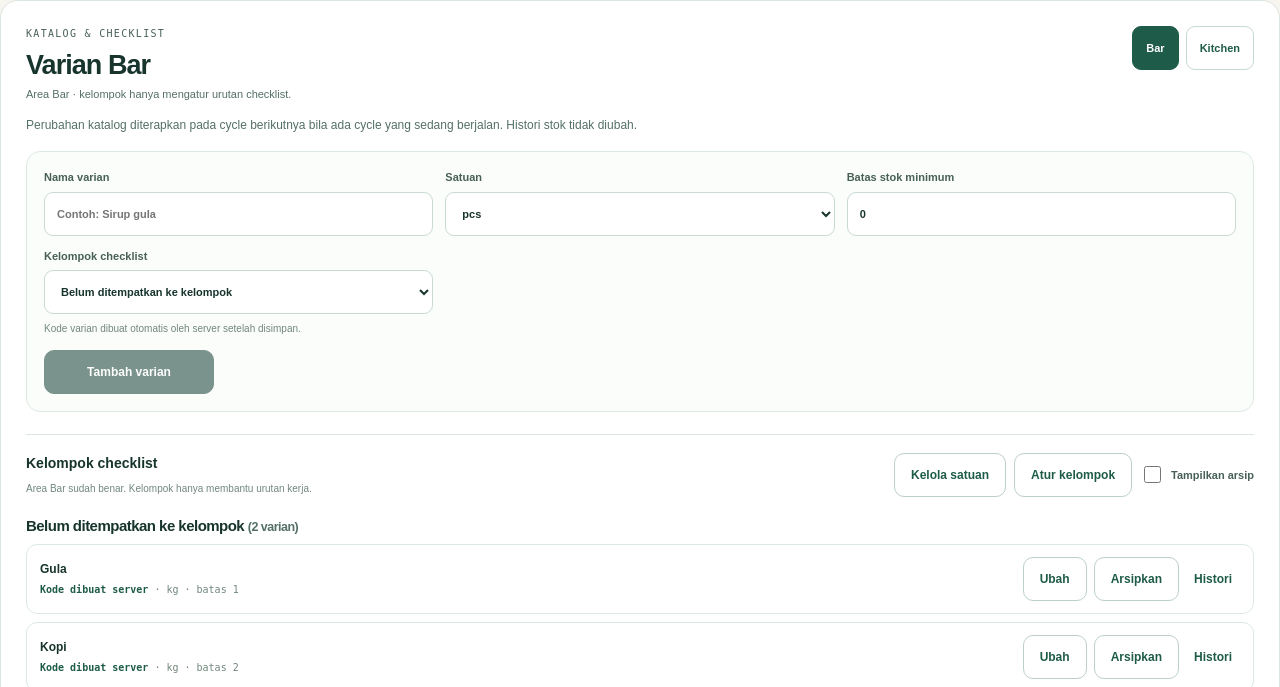
it: CatalogManager › edits catalog metadata with a next-cycle notice
The width and height of the screenshot is (1280, 687).
Click the button "Ubah" in the row of "Gula" at (1055, 579), box [1023,557,1087,601]
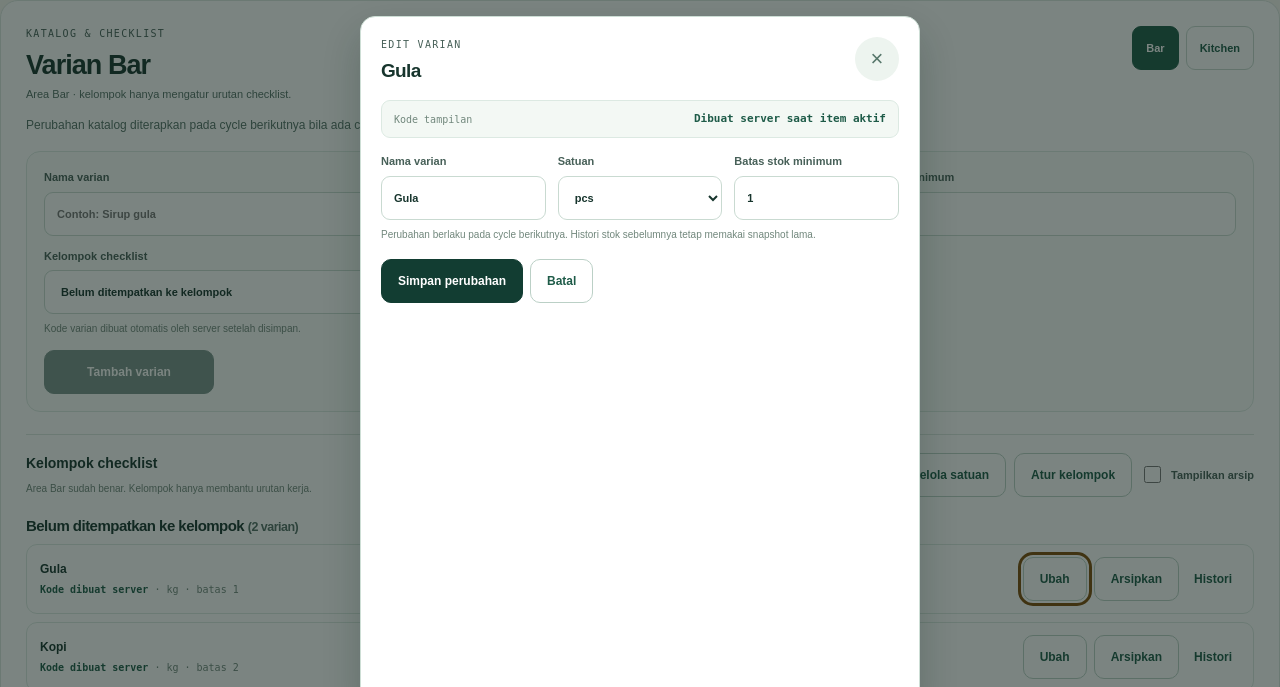
Replace the text in the field showing "Gula" below "Dibuat server saat item aktif" with "Gula aren" at (463, 198), box [381,176,546,220]
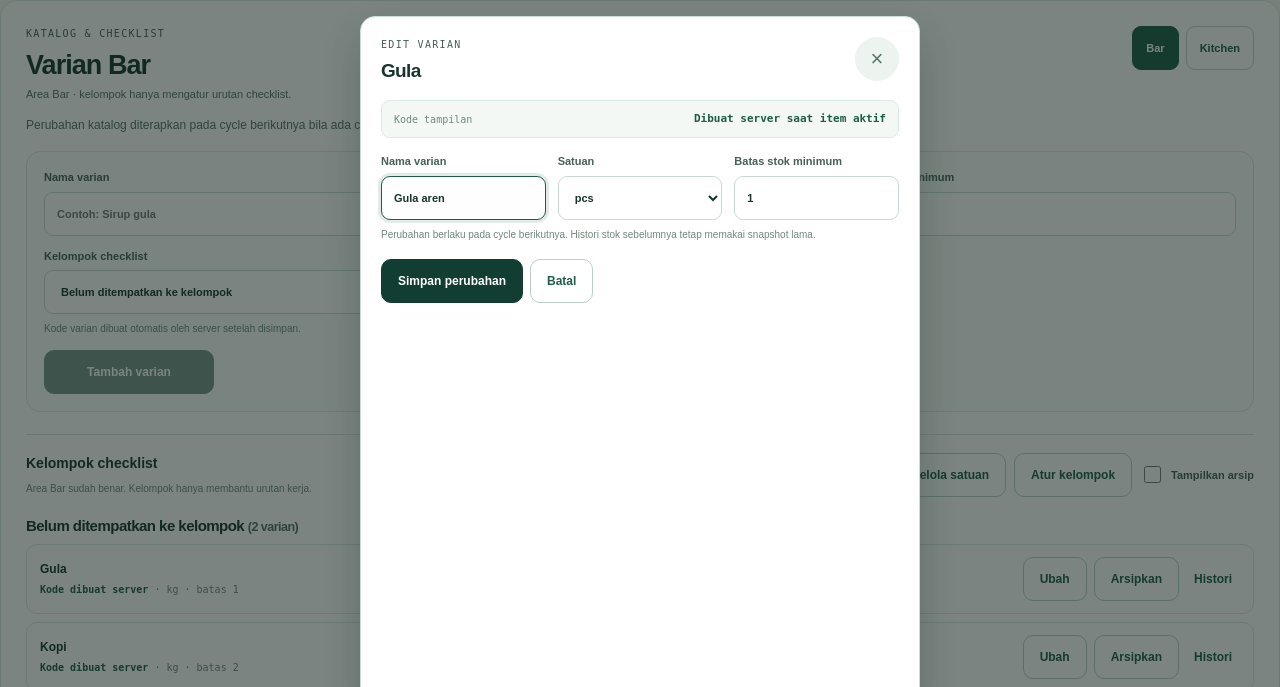
Click the button "Simpan perubahan" at (452, 281), box [381,259,523,303]
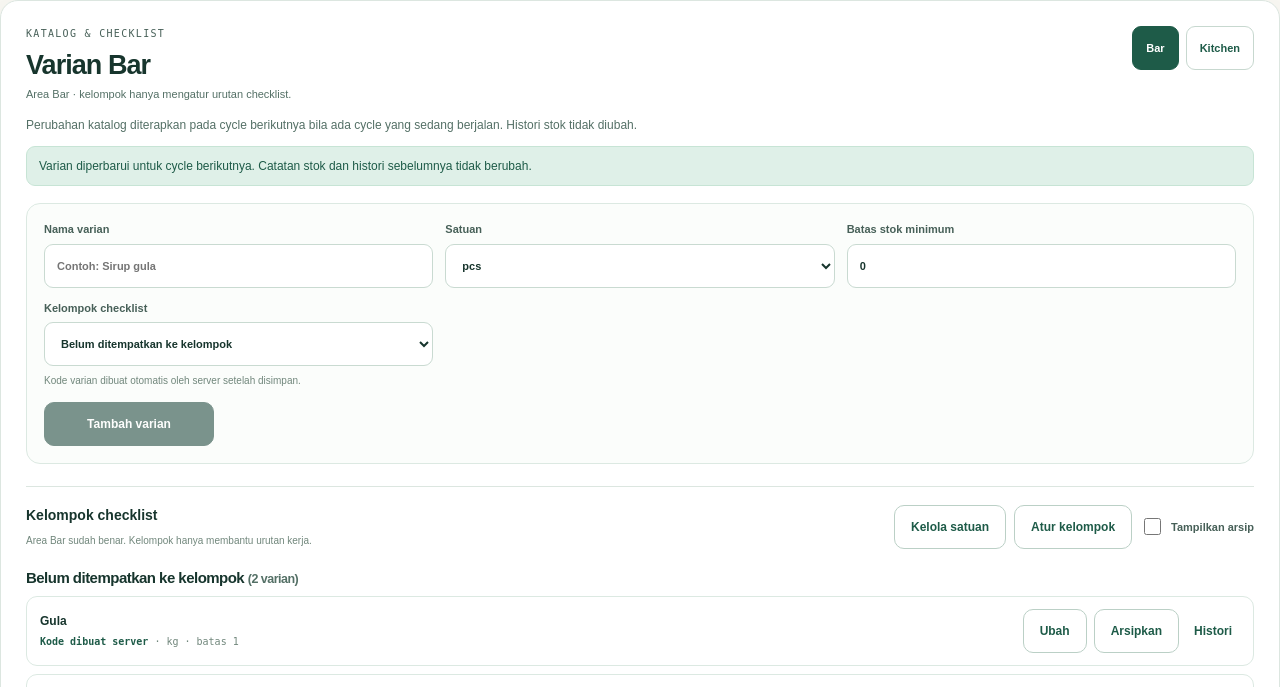
Result: the message shows "histori sebelumnya tidak berubah" at [39,160,532,174]
